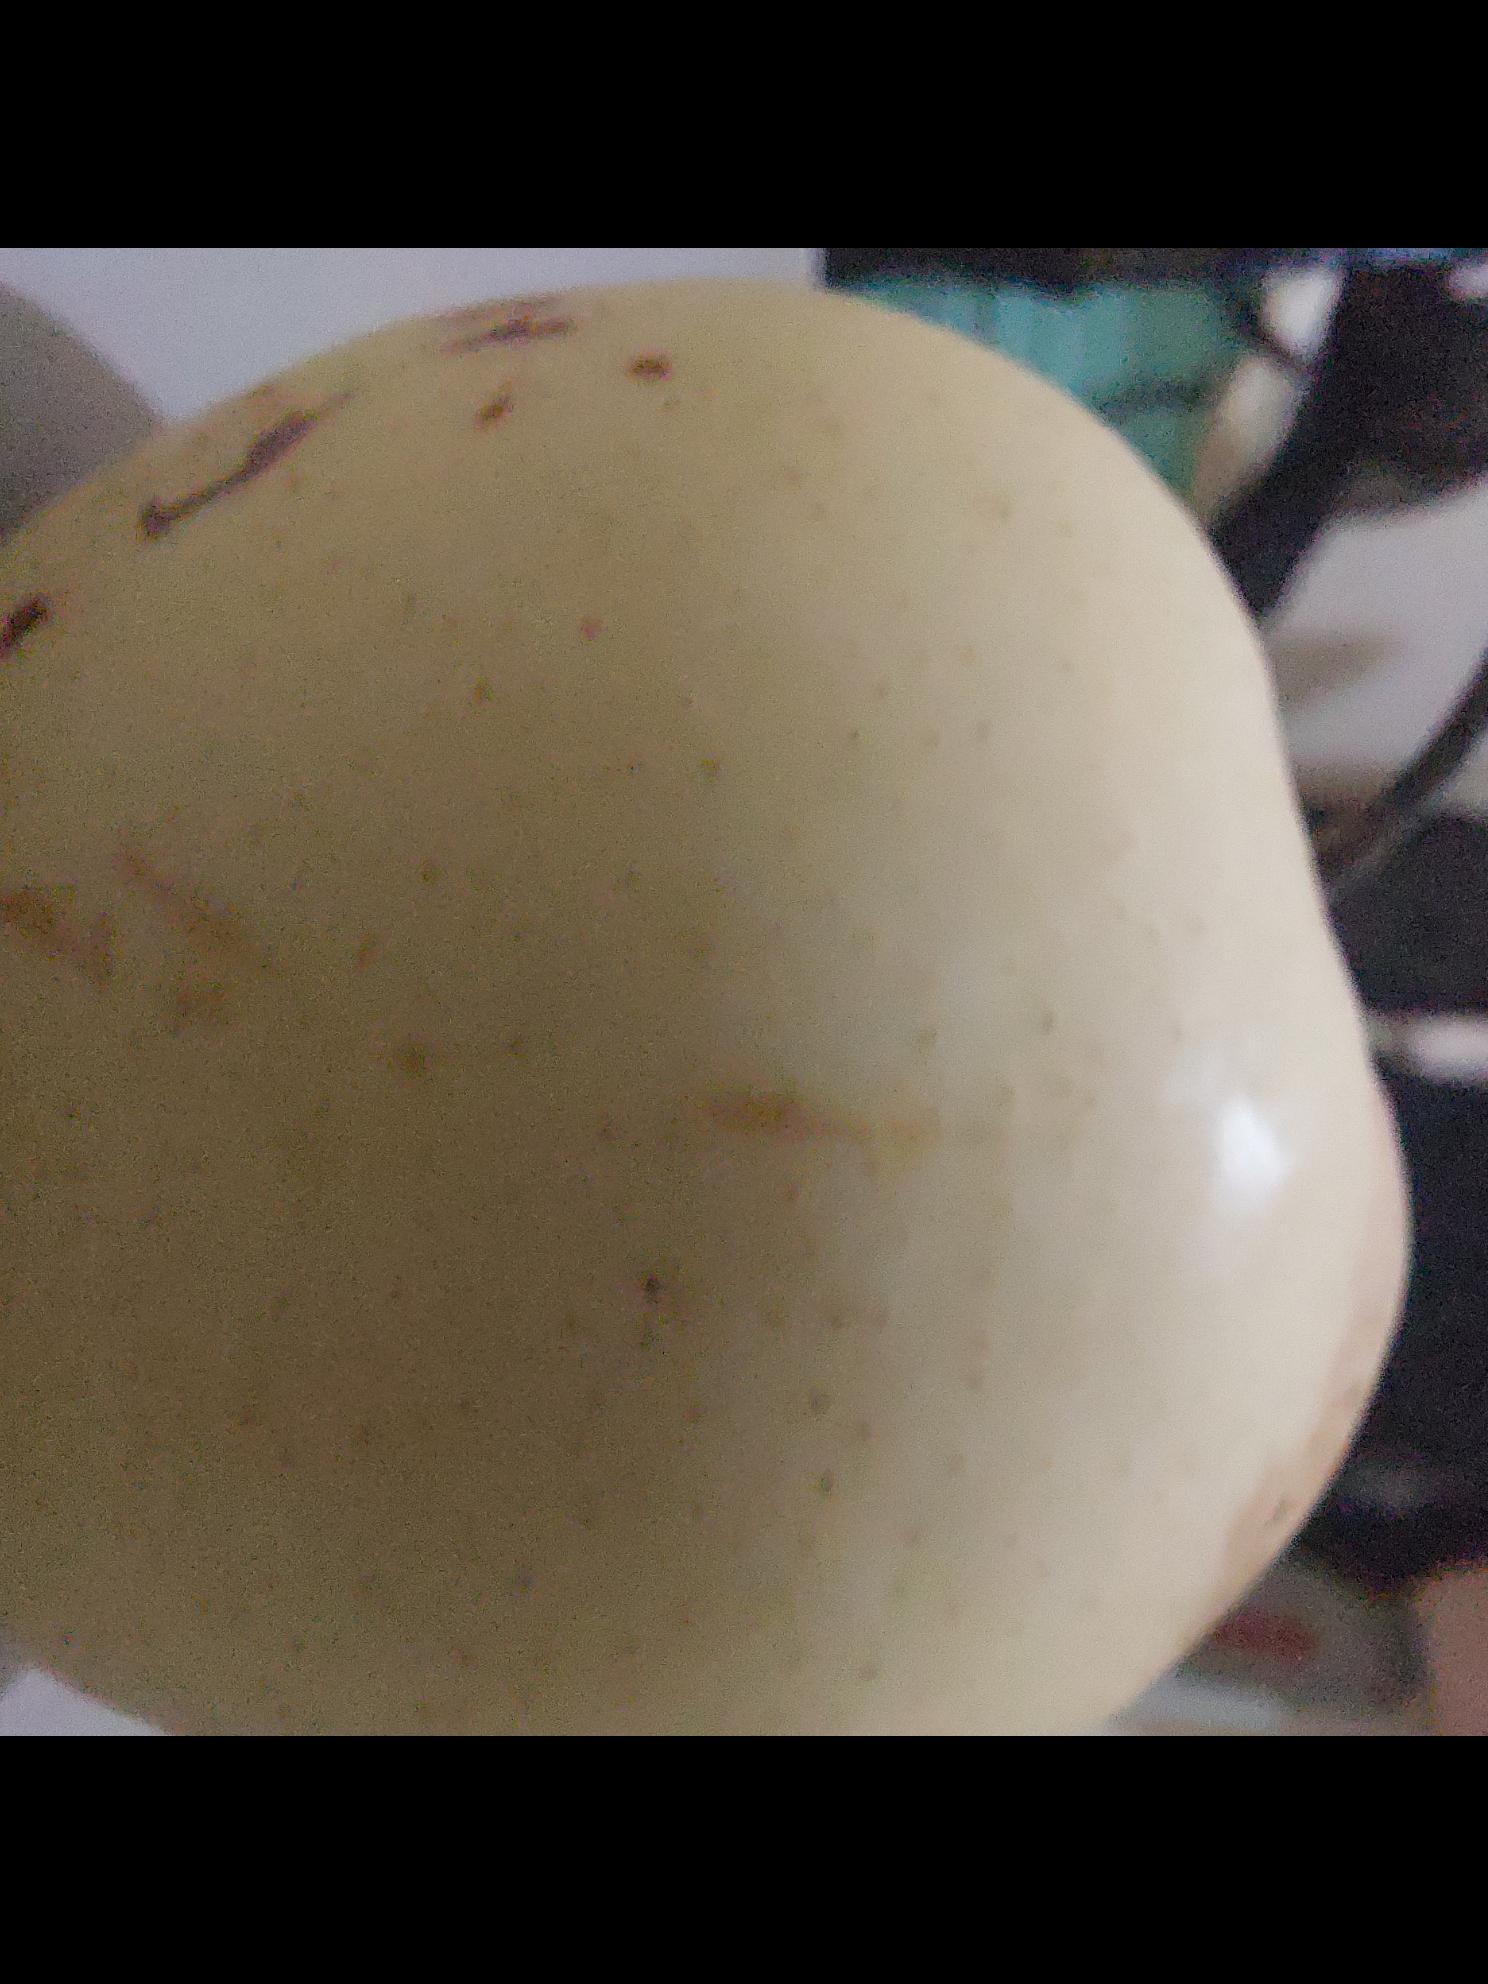Bad Pear: (0, 255, 1432, 1736)
